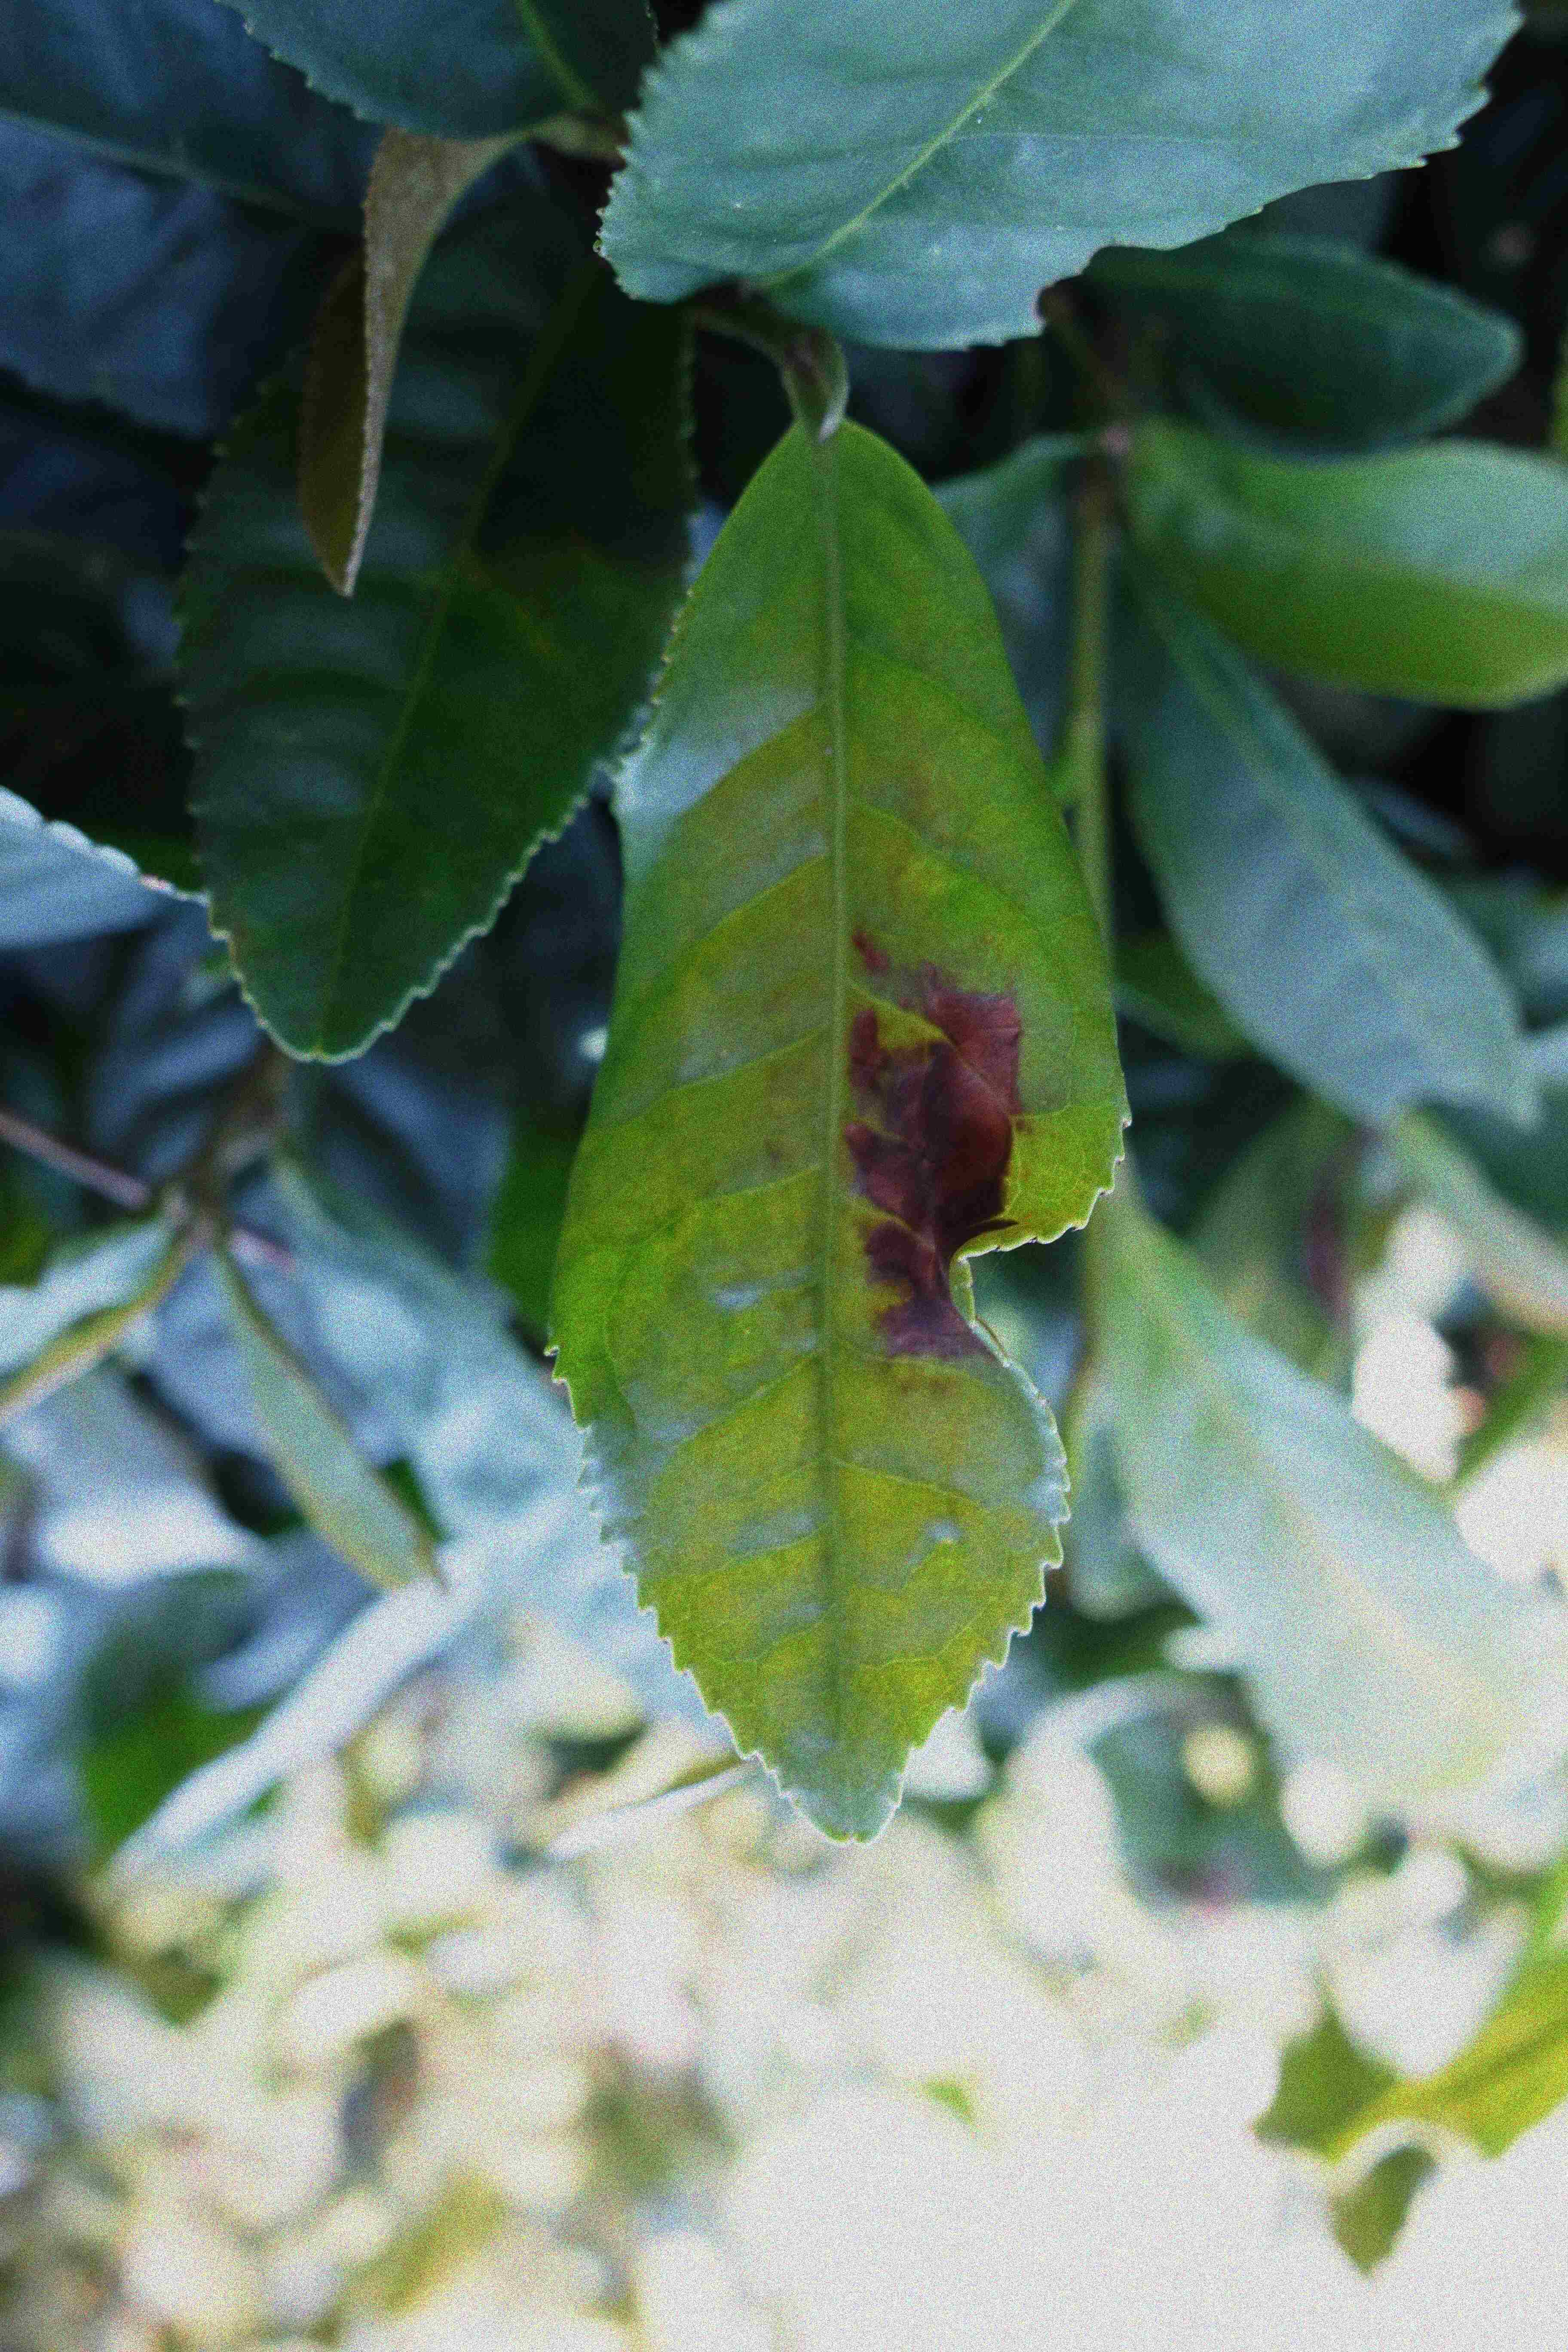chihuo_low: (602, 5, 1519, 346)
tanju_high: (544, 413, 1132, 1851)
